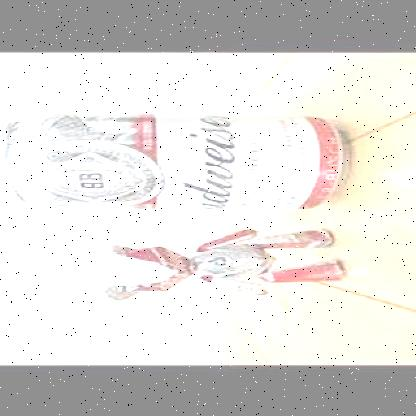Can: (0, 112, 352, 209)
